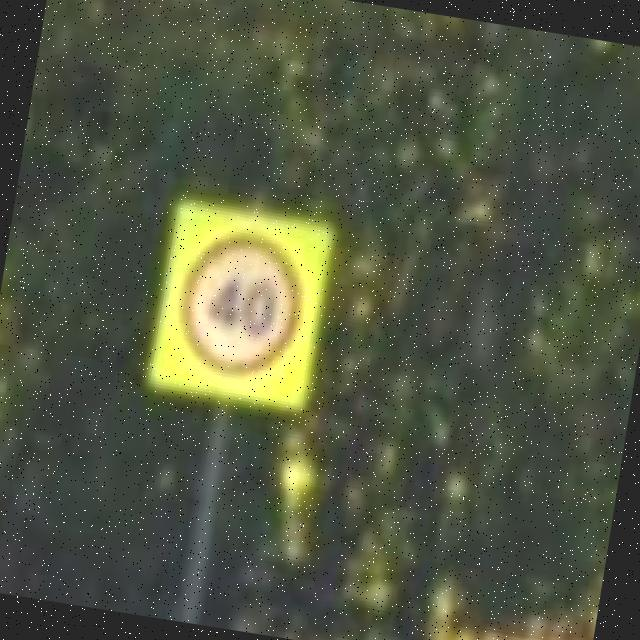Ograniczenie predkosci do 40: (168, 225, 315, 387)
